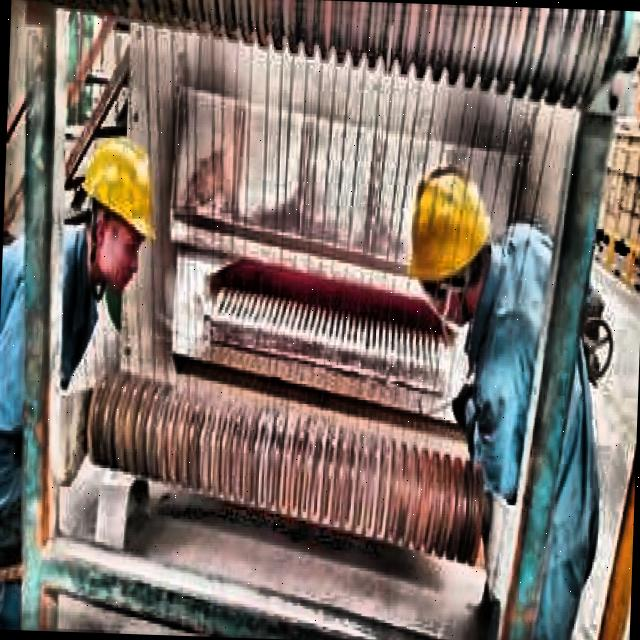helmet: (390, 148, 492, 324), (70, 122, 166, 302)
